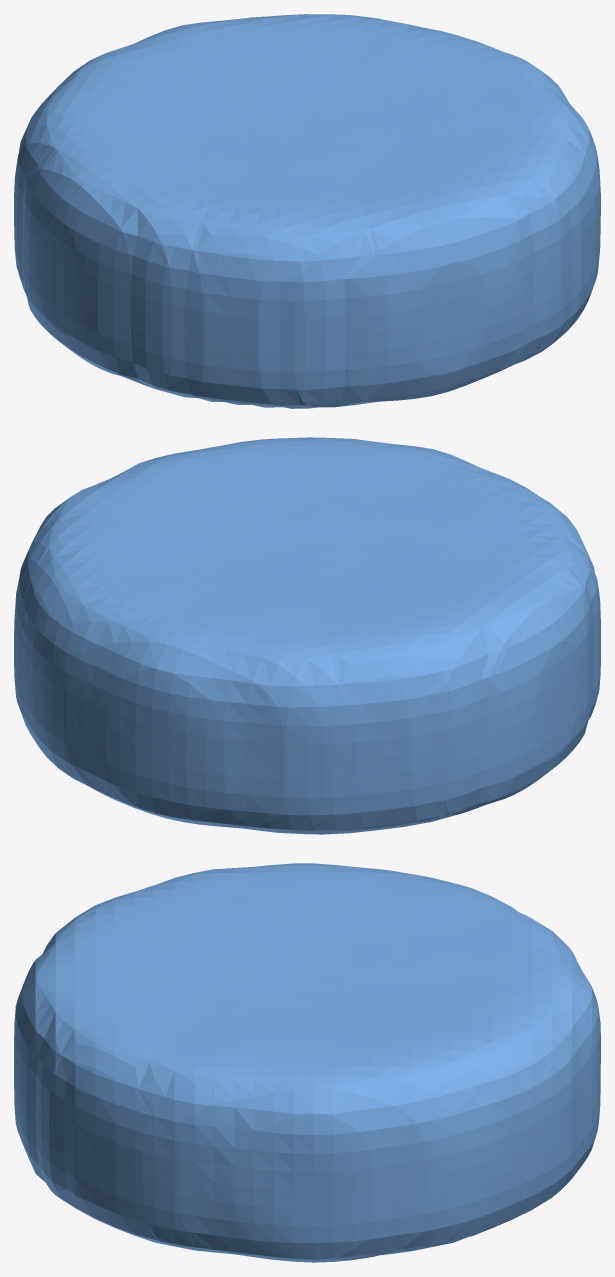
File: water_0002.glb
The picture shows the model from 3 angles, top to bottom: view 1: azimuth 30°, elevation 25°; view 2: azimuth 150°, elevation 25°; view 3: azimuth 270°, elevation 25°; orthographic projection.
Parts seen in each view (by area): view 1: Water_0002; view 2: Water_0002; view 3: Water_0002.
Boxes of the visible parts, <box> form: Water_0002: <box>14,14,600,408</box>; Water_0002: <box>14,437,600,834</box>; Water_0002: <box>14,863,600,1262</box>.
Size of the model in its own units: 1.72 by 0.7337 by 1.72.
